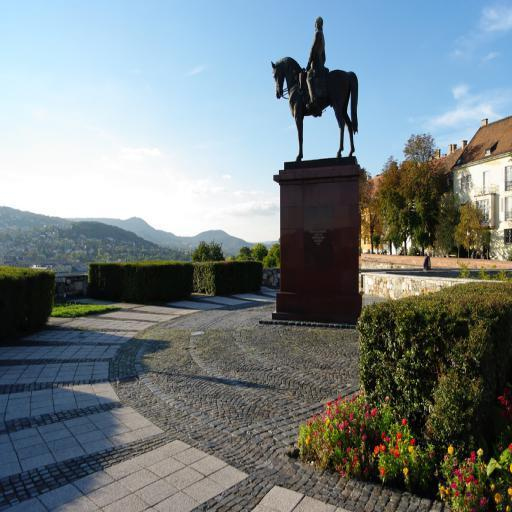horse: (270, 56, 360, 162)
